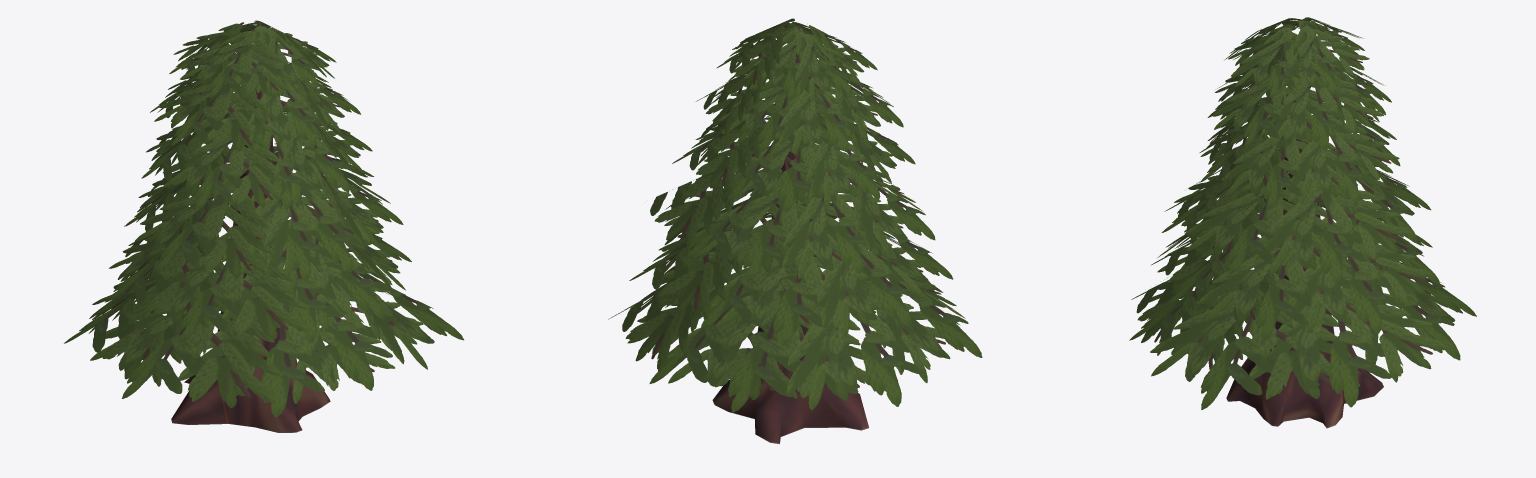
Rendered from tree-trunk-009-26.glb.
3 views of the same model, side by side, from view 1: azimuth 30°, elevation 25°; view 2: azimuth 150°, elevation 25°; view 3: azimuth 270°, elevation 25° (orthographic). The views are drawn at different scales.
Visible parts, largest first — view 1: spruce_leaves_25, Tree_Trunk.009_26; view 2: spruce_leaves_25, Tree_Trunk.009_26; view 3: spruce_leaves_25, Tree_Trunk.009_26.
Part boxes in pixels (x1,y1,x2,y2): spruce_leaves_25: [64, 20, 463, 417]; Tree_Trunk.009_26: [171, 54, 330, 432]; spruce_leaves_25: [608, 18, 982, 412]; Tree_Trunk.009_26: [712, 55, 868, 444]; spruce_leaves_25: [1129, 17, 1476, 409]; Tree_Trunk.009_26: [1226, 47, 1383, 428].
Bounding box in the file's own units: 33.31 × 29.51 × 31.69.
2 materials, 2 textured.
